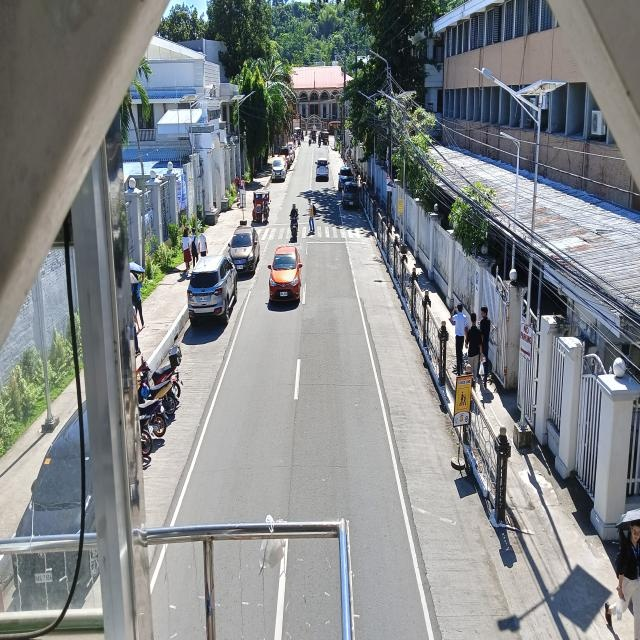Motorcycle: (138, 359, 184, 403), (289, 198, 299, 244)
